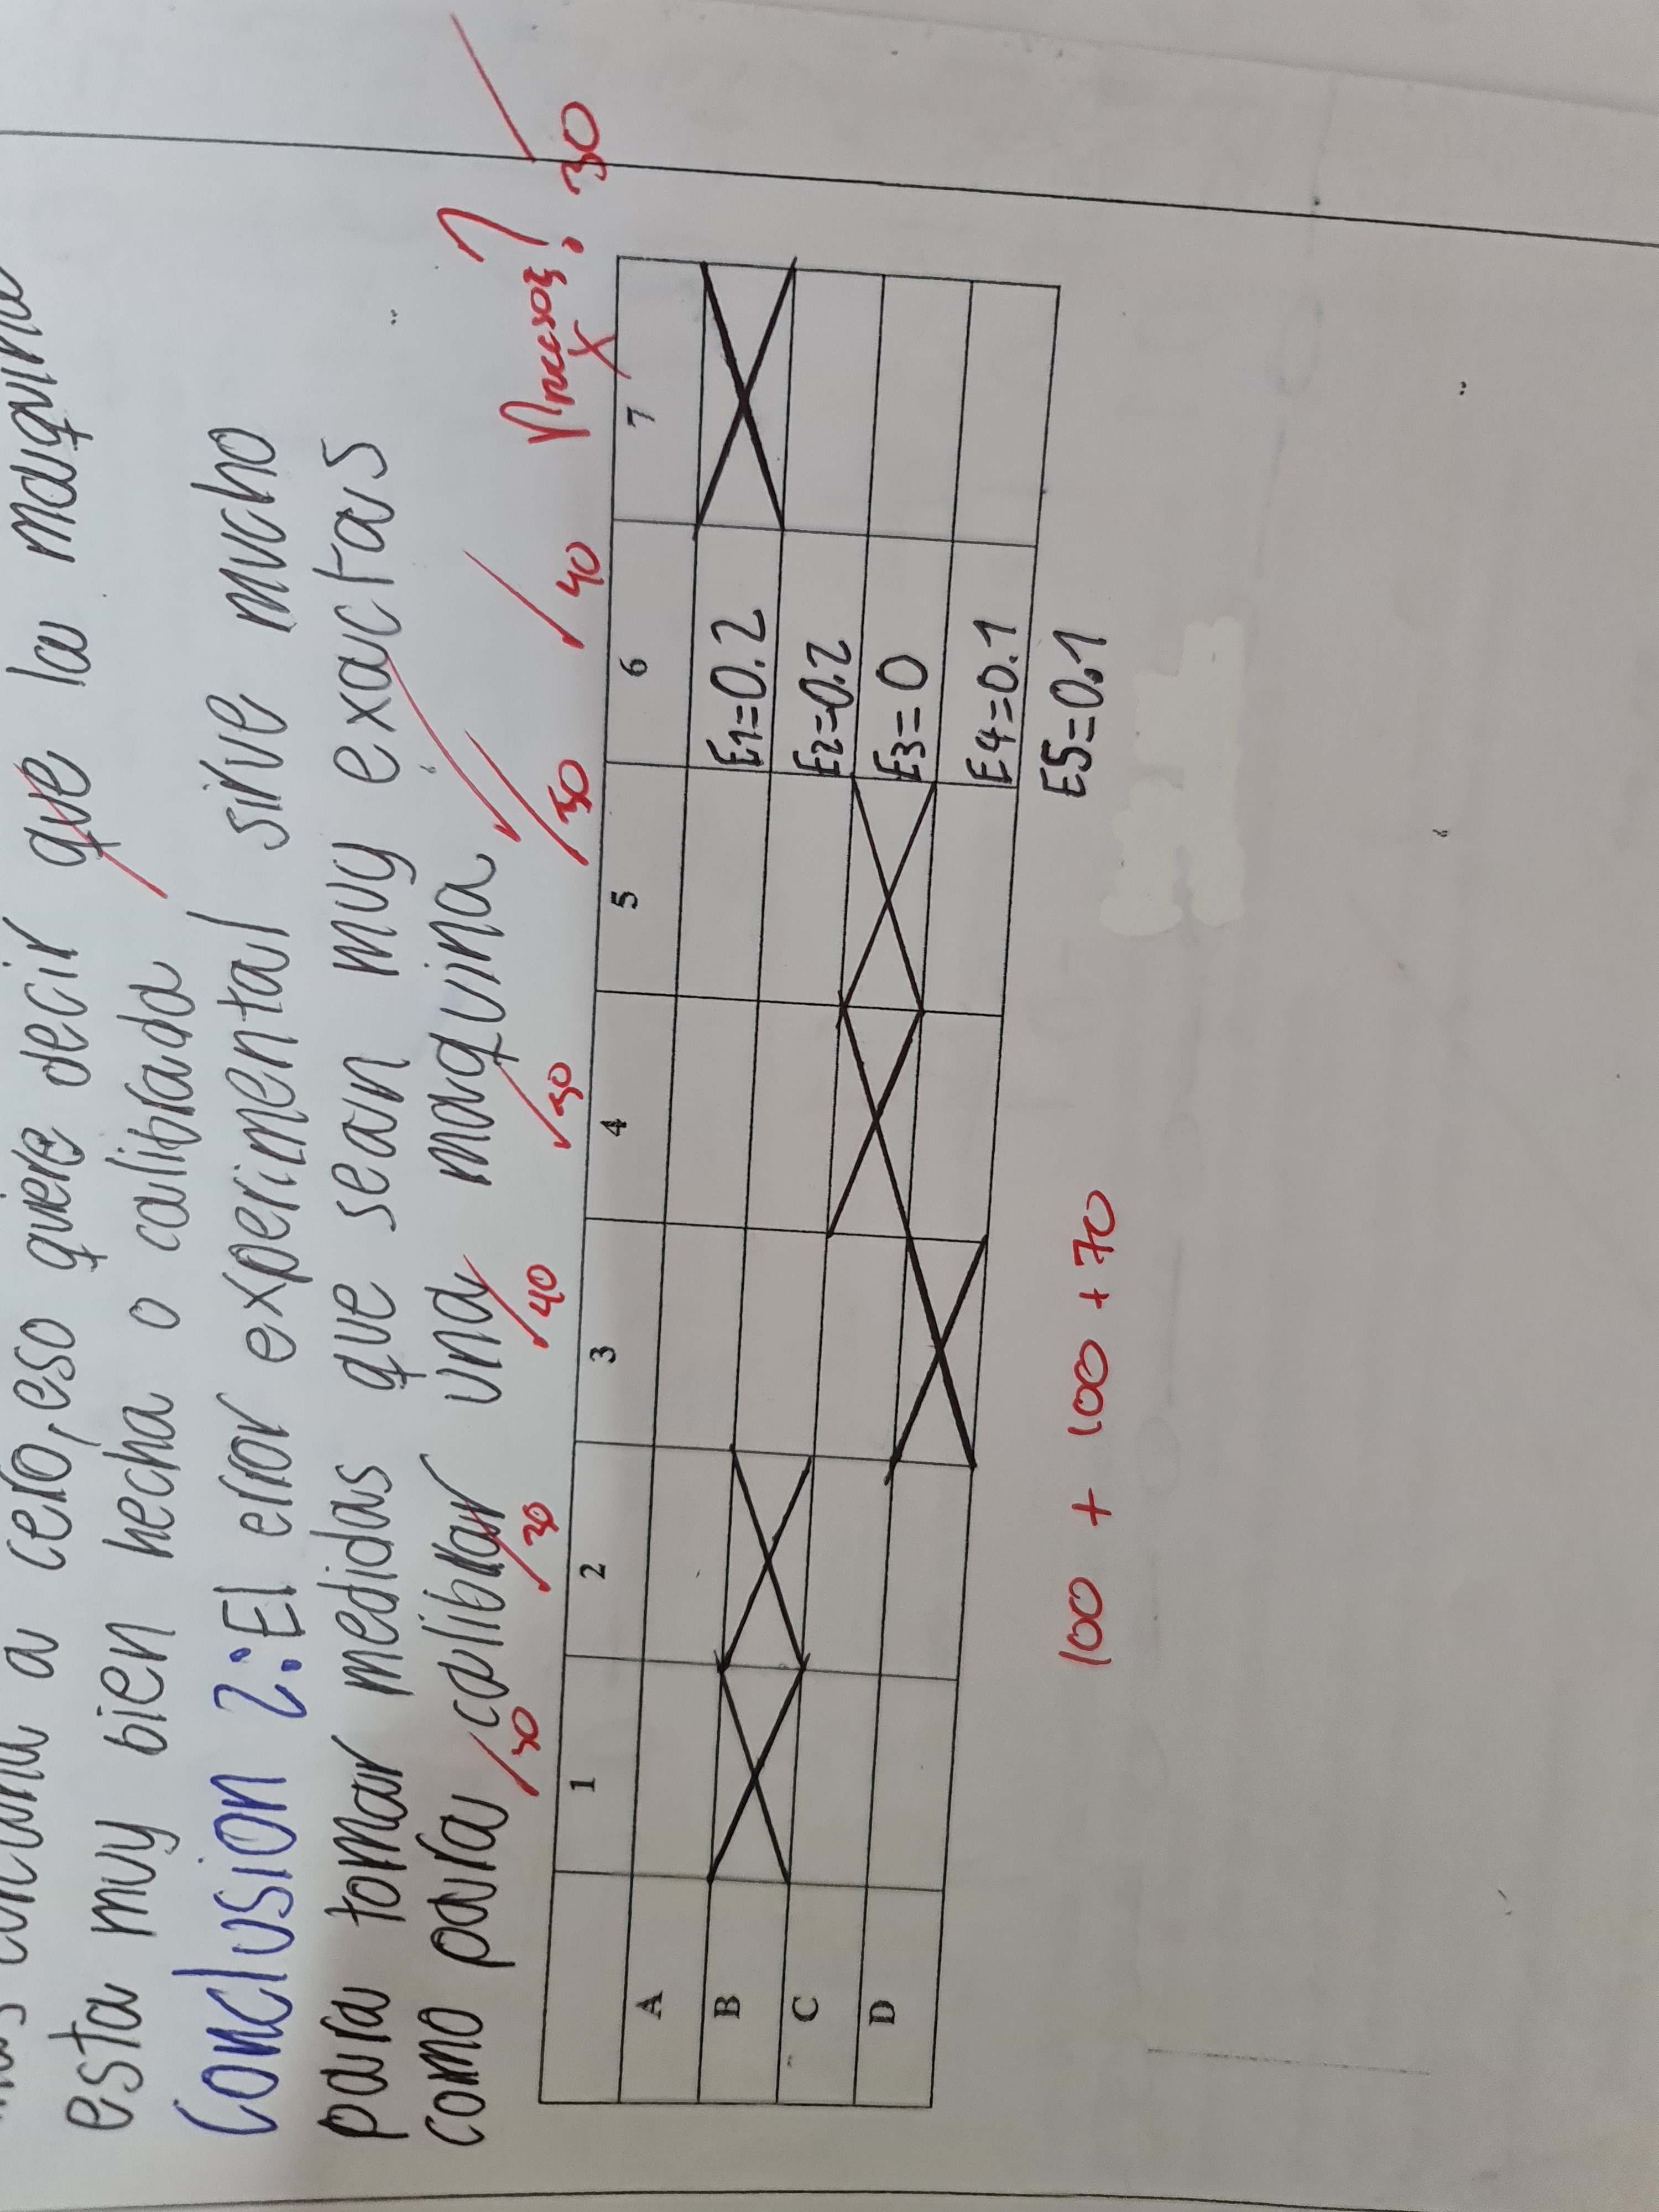column: (559, 988, 1054, 1233), (523, 1860, 967, 2127), (575, 772, 1032, 1029), (552, 1214, 1007, 1472), (552, 1435, 1004, 1693), (528, 1651, 985, 1892)
